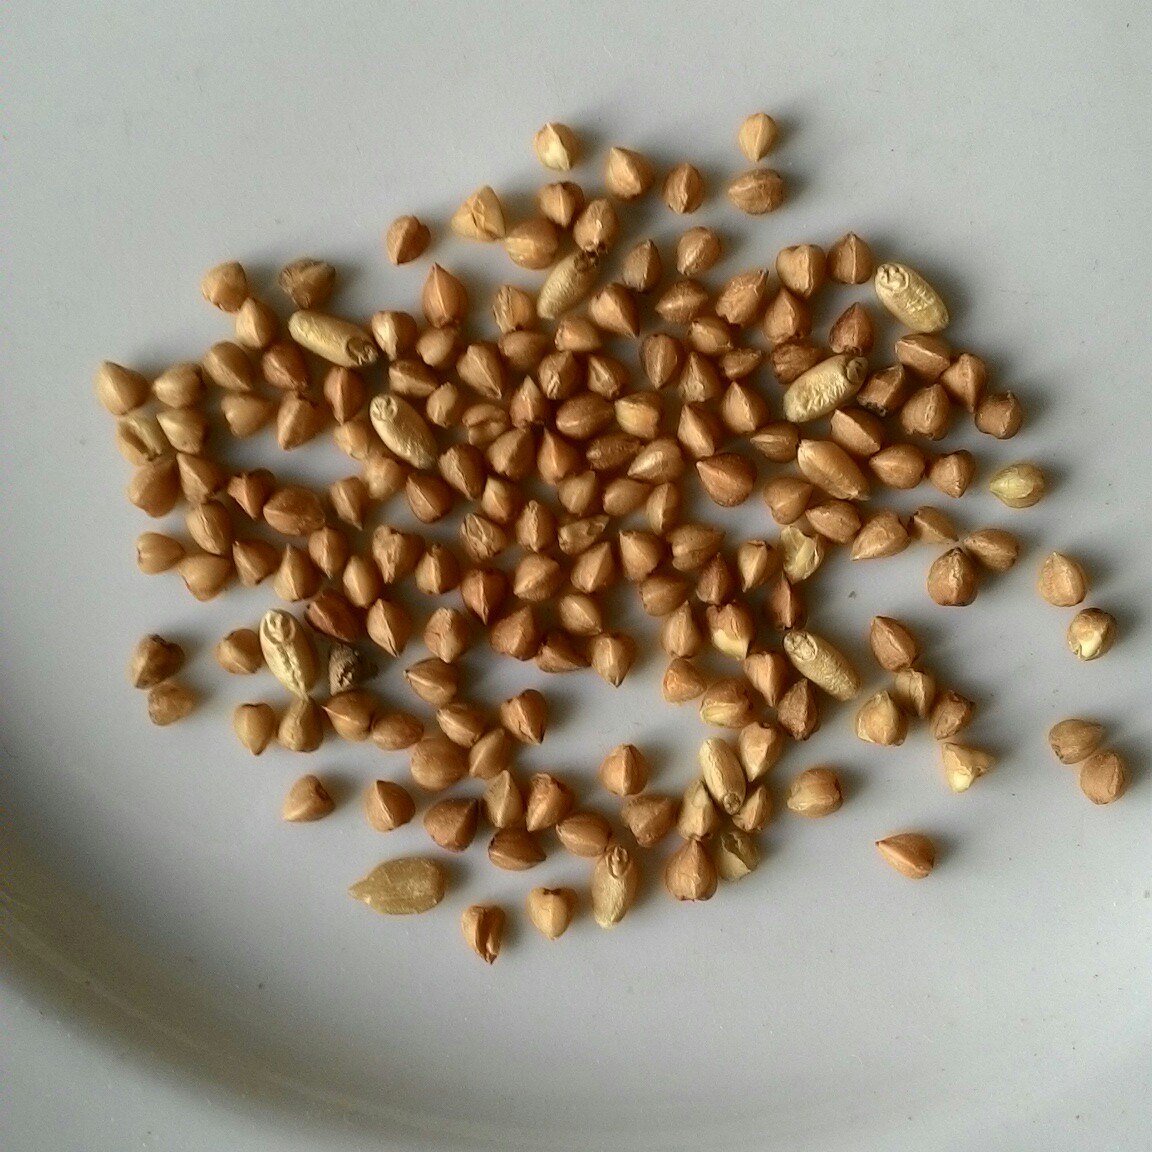semka: (342, 850, 447, 918)
wheat: (773, 348, 869, 436), (279, 301, 381, 375), (781, 436, 880, 510), (777, 625, 864, 707), (367, 384, 447, 471), (866, 260, 951, 337), (255, 606, 320, 702), (532, 246, 608, 320), (582, 839, 637, 932), (696, 740, 751, 817)
